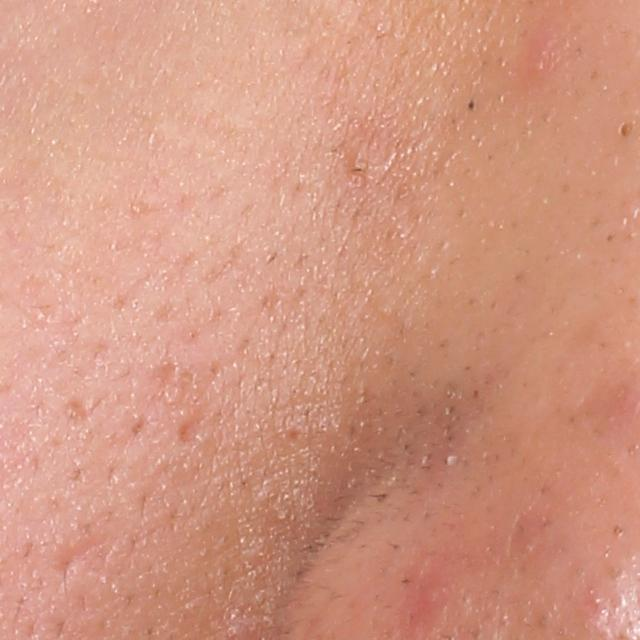atrophic_scar: (52, 529, 100, 579), (174, 405, 213, 445), (62, 396, 94, 426)
comedo: (614, 117, 638, 141)
